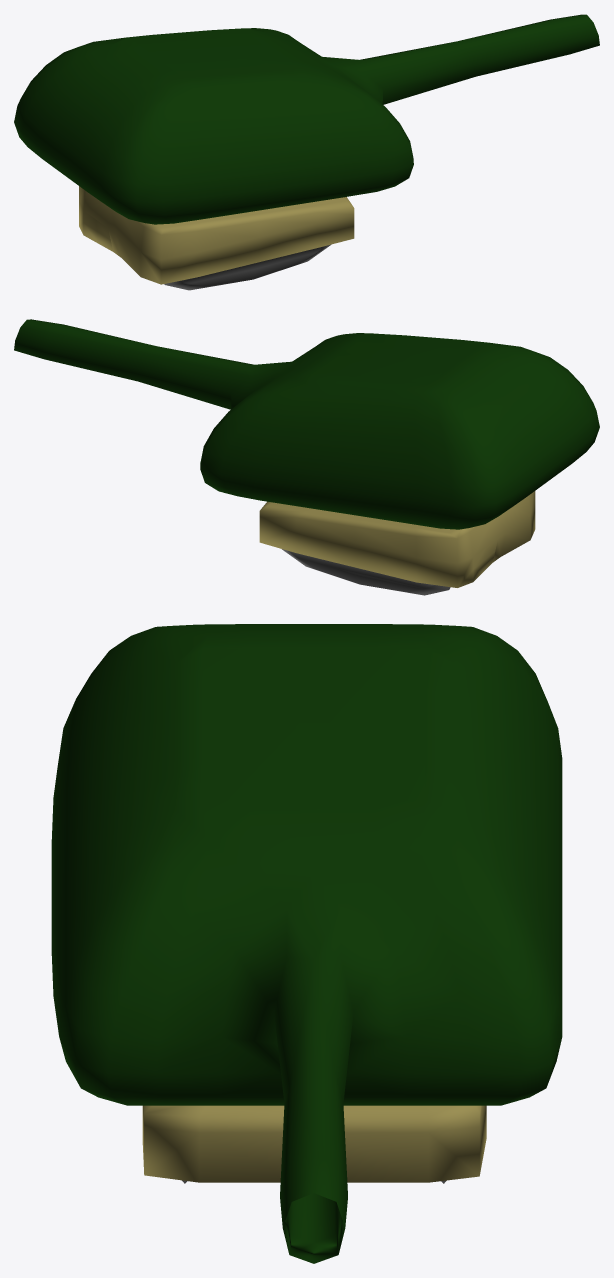
File: MS_PlayerTank.fbx
3 views of the same model, one above another, from view 1: azimuth 30°, elevation 25°; view 2: azimuth 150°, elevation 25°; view 3: azimuth 270°, elevation 25° (orthographic). The views are drawn at different scales.
Parts seen in each view (by area): view 1: pCube1; view 2: pCube1; view 3: pCube1.
Part boxes in pixels (x1=…): pCube1: x1=14, y1=14, x2=599, y2=290; pCube1: x1=14, y1=319, x2=599, y2=595; pCube1: x1=51, y1=624, x2=562, y2=1263.
Bounding box in the file's own units: 26.73 × 10.16 × 11.05.
